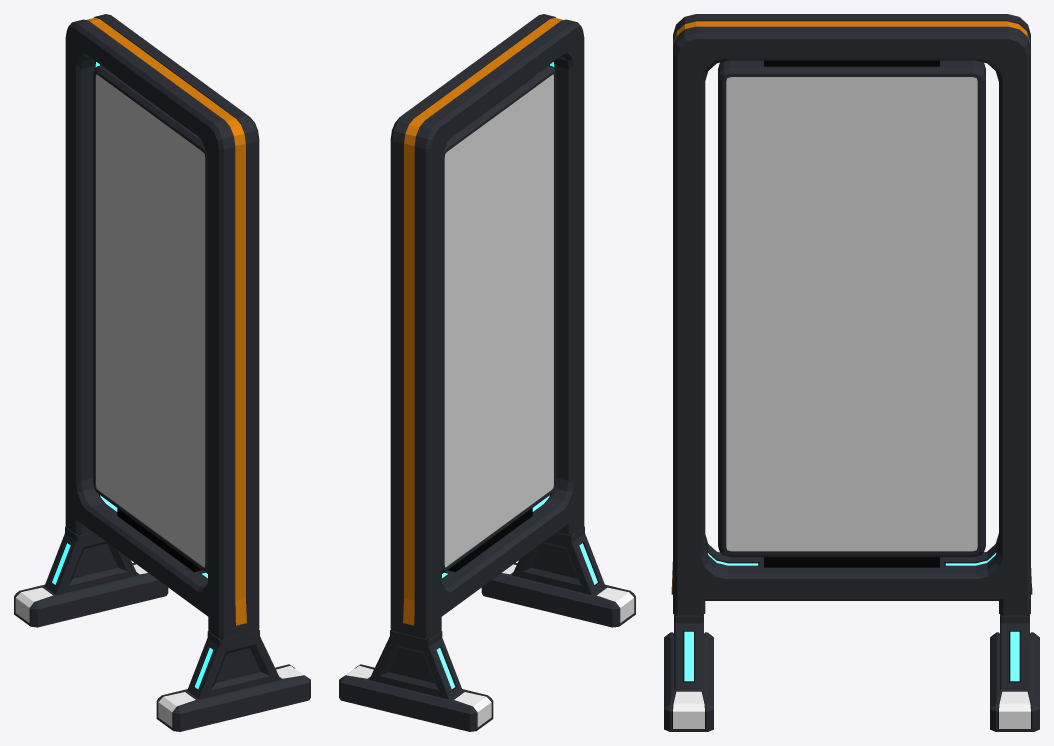
The model's file is SM_Advertising_Panel.fbx.
The picture shows the model from 3 angles, left to right: view 1: azimuth 30°, elevation 25°; view 2: azimuth 150°, elevation 25°; view 3: azimuth 270°, elevation 25°; orthographic projection. The views are drawn at different scales.
Visible parts, largest first — view 1: SM_Advertising_Panel; view 2: SM_Advertising_Panel; view 3: SM_Advertising_Panel.
Part boxes in pixels (left/top/right/bottom): SM_Advertising_Panel: left=14, top=14, right=310, bottom=731; SM_Advertising_Panel: left=339, top=14, right=635, bottom=731; SM_Advertising_Panel: left=664, top=14, right=1039, bottom=731.
Bounding box in the file's own units: 40.55 × 165 × 83.9.
